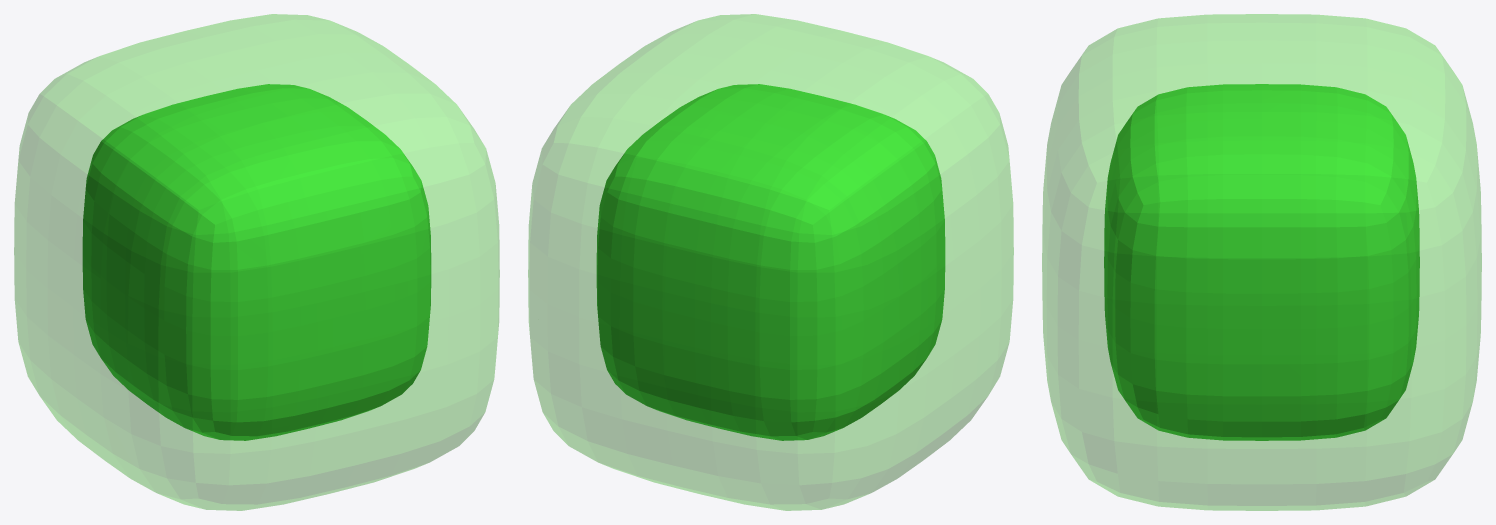
The model's file is slime.glb.
3 renders of one model, left to right at view 1: azimuth 30°, elevation 25°; view 2: azimuth 150°, elevation 25°; view 3: azimuth 270°, elevation 25°, orthographic. The views are drawn at different scales.
Parts seen in each view (by area): view 1: Outer, Inner; view 2: Outer, Inner; view 3: Outer, Inner.
Boxes of the visible parts, x1,y1,x2,y2 form: Outer: [14, 14, 499, 510]; Inner: [82, 84, 431, 440]; Outer: [528, 14, 1013, 510]; Inner: [596, 84, 945, 440]; Outer: [1042, 14, 1481, 510]; Inner: [1104, 84, 1419, 440].
Bounding box in the file's own units: 1.39 × 1.39 × 1.39.
